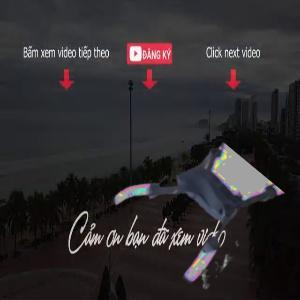drone: (121, 135, 260, 274)
